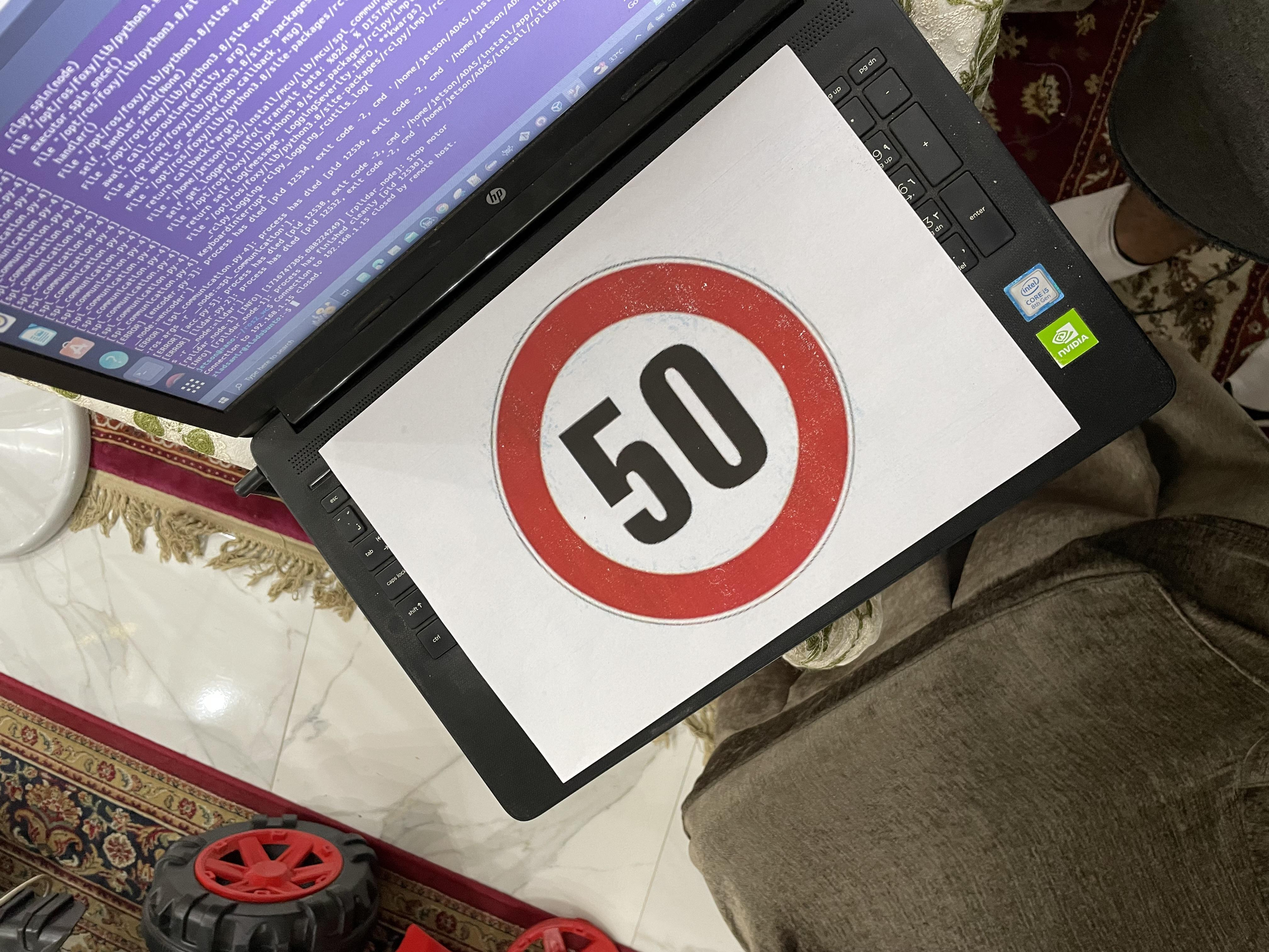50-Speed: (425, 352, 932, 647)
